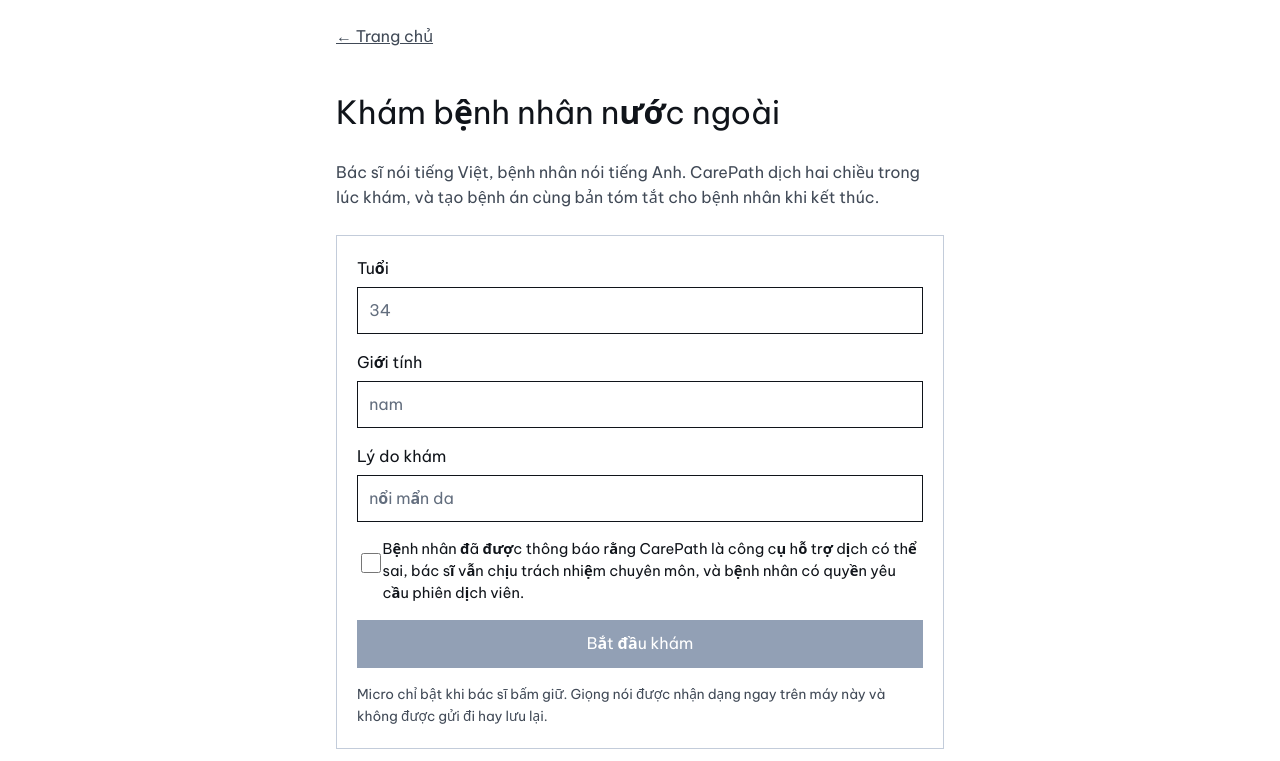
gated turns in the UI › masks the translation and never shows it to the patient
Click the checkbox.
click(371, 563)  # box top-left (361, 541), bottom-right (381, 585)
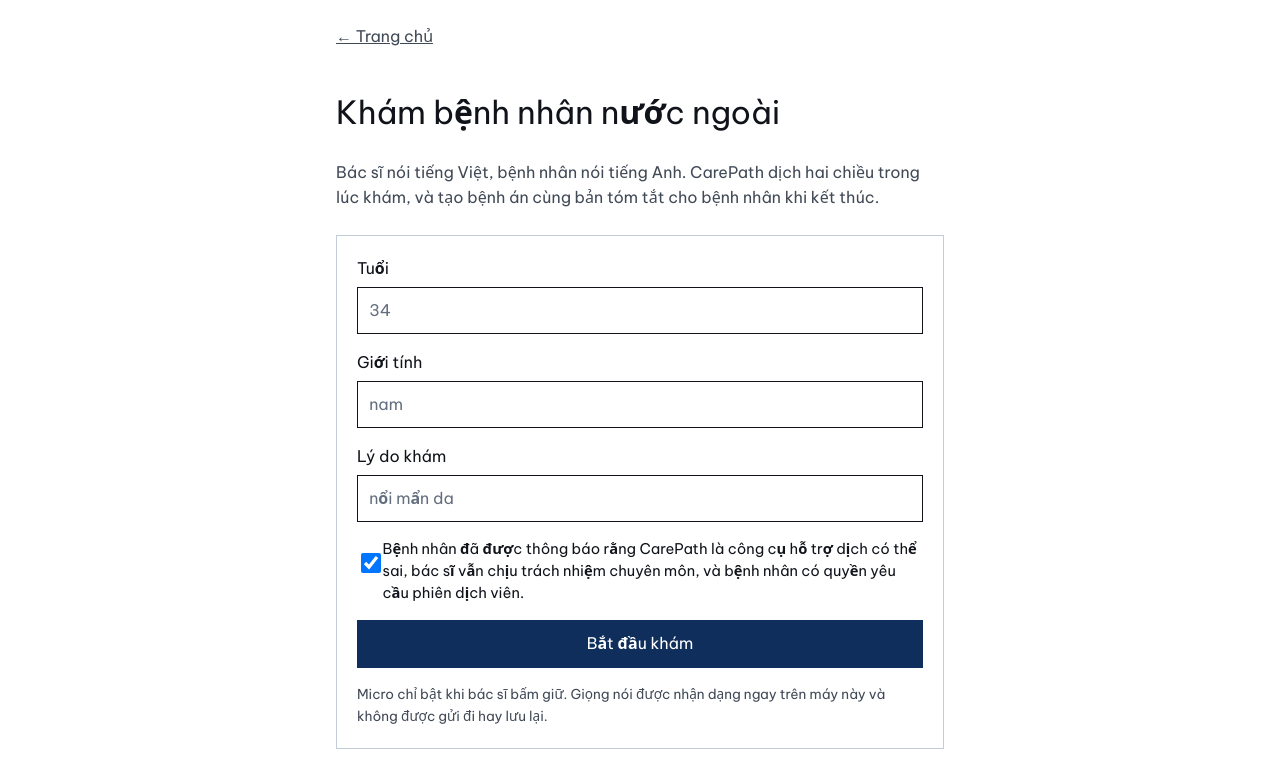
Click the button "Bắt đầu khám".
click(640, 644)  # box top-left (357, 620), bottom-right (923, 668)
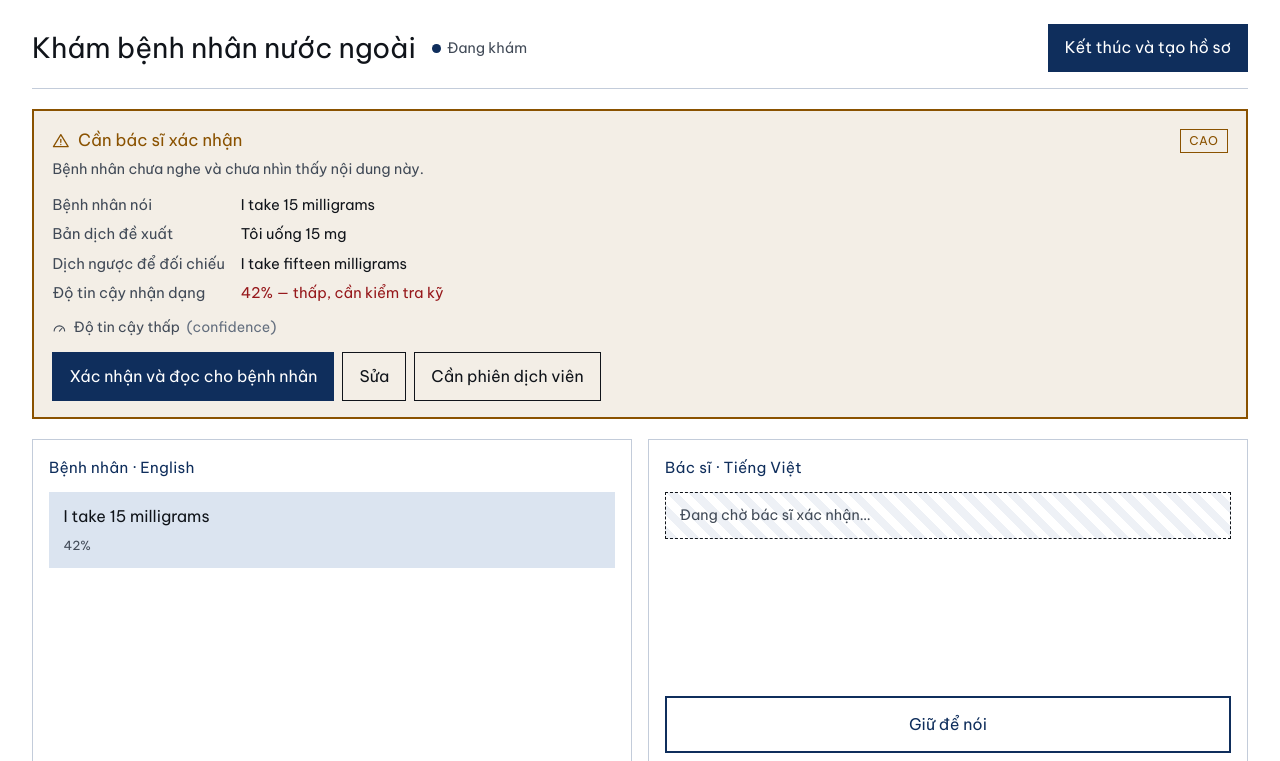
Expected: the heading "Khám bệnh nhân nước ngoài" is shown, top-left (32, 26), bottom-right (416, 71)
Now the text "Đang chờ bác sĩ xác nhận…" is shown, box top-left (680, 506), bottom-right (870, 524)
